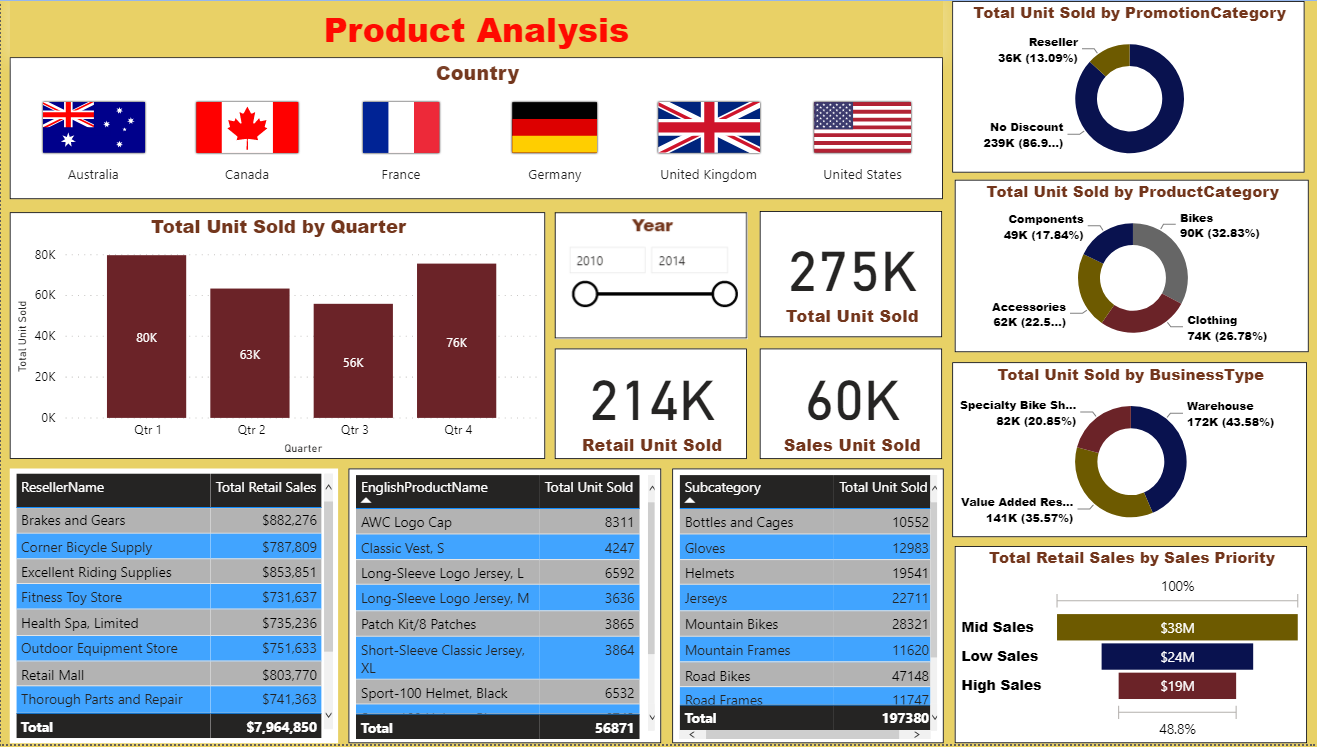

What the dashboard file says about the page in this screenshot:
{"tool":"powerbi","page":{"name":"Product","canvas":[1280,720],"ordinal":0},"visuals":[{"type":"donutChart","title":"Total Unit Sold by PromotionCategory","fields":{"Y":["Imp_Measures.Total Unit Sold"],"Category":["Product Promotion.EnglishPromotionCategory"]},"box":[922.9,0,342,166.2],"z":0},{"type":"donutChart","fields":{"Y":["Imp_Measures.Total Unit Sold"],"Category":["Product Category.ProductCategory"]},"box":[924.3,173,343.3,167.6],"z":1000},{"type":"donutChart","fields":{"Y":["Imp_Measures.Total Unit Sold"],"Category":["RetailsCounters.BusinessType"]},"box":[922.4,350.3,344.2,169.7],"z":2000},{"type":"funnel","fields":{"Y":["Imp_Measures.Total Retail Sales"],"Category":["RetailSales.Sales Priority"]},"box":[924.8,528.5,341.8,191.5],"z":3000},{"type":"enlightenWorldFlagsE887F52F76244B1C927F80CF9724AEF6","title":"Country","fields":{"code":["Sales Territories.SalesTerritoryCountry"]},"box":[8.2,54.9,905.1,137.3],"z":4000},{"type":"tableEx","fields":{"Values":["Product.EnglishProductName","Imp_Measures.Total Unit Sold"]},"box":[337,453.3,303,266.7],"z":5000},{"type":"tableEx","fields":{"Values":["Product Sub-Category.Subcategory","Imp_Measures.Total Unit Sold"]},"box":[650.9,453.3,263,266.7],"z":6000},{"type":"card","fields":{"Values":["Imp_Measures.Retail Unit Sold"]},"box":[537,336.5,186.8,107.1],"z":7000},{"type":"card","fields":{"Values":["Imp_Measures.Sales Unit Sold"]},"box":[736.1,336.5,177.2,107.1],"z":8000},{"type":"card","fields":{"Values":["Imp_Measures.Total Unit Sold"]},"box":[736.1,203.3,177.2,122.2],"z":9000},{"type":"slicer","title":"Year","fields":{"Values":["DimDate.Date.Variation.Date Hierarchy.Year"]},"box":[537,204.6,186.8,122.2],"z":10000},{"type":"columnChart","fields":{"Category":["DimDate.Date.Variation.Date Hierarchy.Year","DimDate.Date.Variation.Date Hierarchy.Quarter"],"Y":["Imp_Measures.Total Unit Sold"]},"box":[8.2,204.6,519.1,239],"z":11000},{"type":"textbox","box":[8.2,0,905.1,54.9],"z":12000},{"type":"tableEx","fields":{"Values":["RetailsCounters.ResellerName","Imp_Measures.Total Retail Sales"]},"box":[8.2,453.2,318.6,266.4],"z":13000}]}

Visuals, with their boxes in screenshot pixels (x1, y1, x2, y2), scaled from the page's 1280x720 canvas onto the 1317x747 screenshot:
"Total Unit Sold by PromotionCategory" donutChart: l=950, t=0, r=1301, b=172
donutChart - Imp_Measures.Total Unit Sold x Product Category.ProductCategory: l=951, t=179, r=1304, b=353
donutChart - Imp_Measures.Total Unit Sold x RetailsCounters.BusinessType: l=949, t=363, r=1303, b=540
funnel - Imp_Measures.Total Retail Sales x RetailSales.Sales Priority: l=952, t=548, r=1303, b=746
"Country" enlightenWorldFlagsE887F52F76244B1C927F80CF9724AEF6: l=8, t=57, r=940, b=199
tableEx - Product.EnglishProductName x Imp_Measures.Total Unit Sold: l=347, t=470, r=658, b=746
tableEx - Product Sub-Category.Subcategory x Imp_Measures.Total Unit Sold: l=670, t=470, r=940, b=746
card - Imp_Measures.Retail Unit Sold: l=553, t=349, r=745, b=460
card - Imp_Measures.Sales Unit Sold: l=757, t=349, r=940, b=460
card - Imp_Measures.Total Unit Sold: l=757, t=211, r=940, b=338
"Year" slicer: l=553, t=212, r=745, b=339
columnChart - DimDate.Date.Variation.Date Hierarchy.Year x DimDate.Date.Variation.Date Hierarchy.Quarter: l=8, t=212, r=543, b=460
textbox: l=8, t=0, r=940, b=57
tableEx - RetailsCounters.ResellerName x Imp_Measures.Total Retail Sales: l=8, t=470, r=336, b=746
